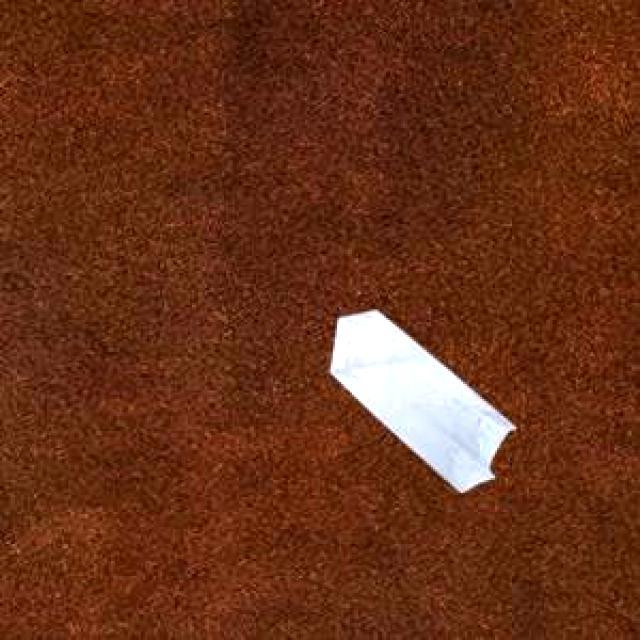Plastic_Bag: (328, 308, 514, 490)
